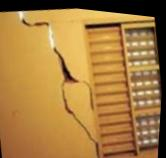crack: (17, 10, 102, 158)
